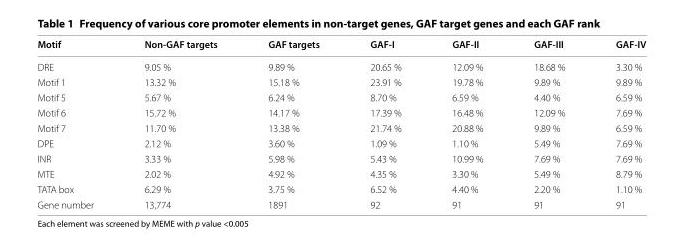table: (36, 37, 645, 209)
table column: (118, 37, 242, 209), (242, 37, 344, 209), (36, 37, 118, 209), (344, 37, 426, 209), (507, 37, 589, 209), (426, 37, 507, 209), (589, 37, 645, 209)
table column header: (36, 37, 645, 55)
table row: (36, 55, 645, 74), (36, 37, 645, 55), (36, 104, 645, 120), (36, 165, 645, 181), (36, 74, 645, 89), (36, 89, 645, 104), (36, 120, 645, 135), (36, 135, 645, 150), (36, 150, 645, 165), (36, 181, 645, 196), (36, 196, 645, 209)
